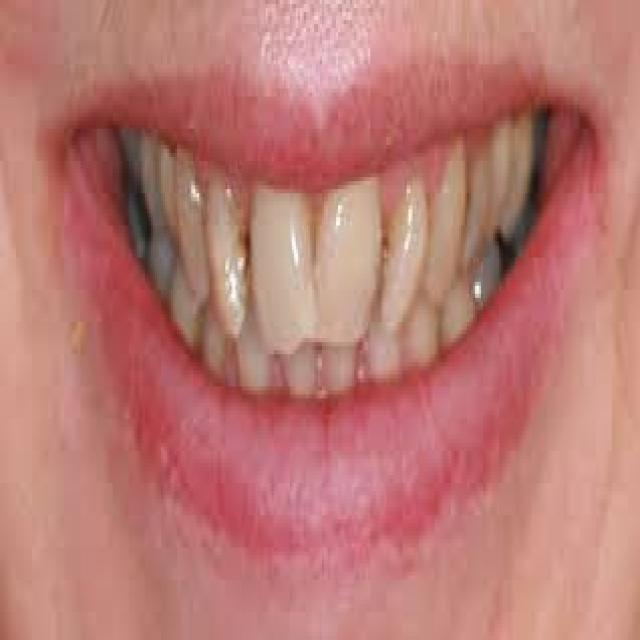tooth: (247, 173, 312, 346), (316, 193, 380, 330), (197, 161, 250, 326), (423, 149, 465, 306), (386, 169, 424, 322), (173, 141, 207, 298), (477, 137, 509, 249), (274, 322, 318, 390), (401, 282, 438, 362), (236, 314, 272, 394), (362, 298, 398, 378), (198, 286, 228, 374), (437, 278, 471, 354), (316, 330, 362, 386)
